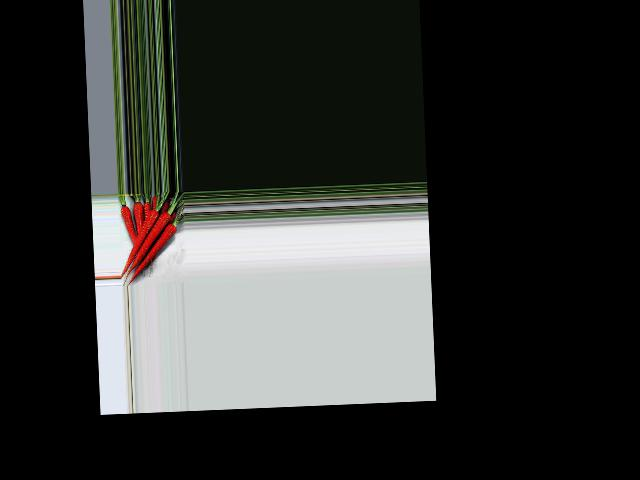carrot: (118, 204, 138, 245)
